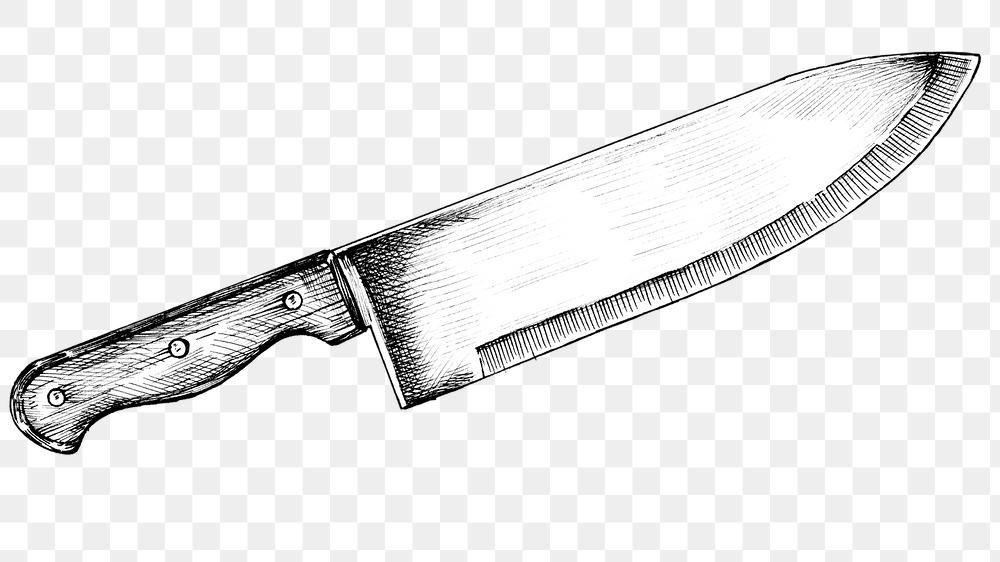Knife: (8, 49, 980, 454)
